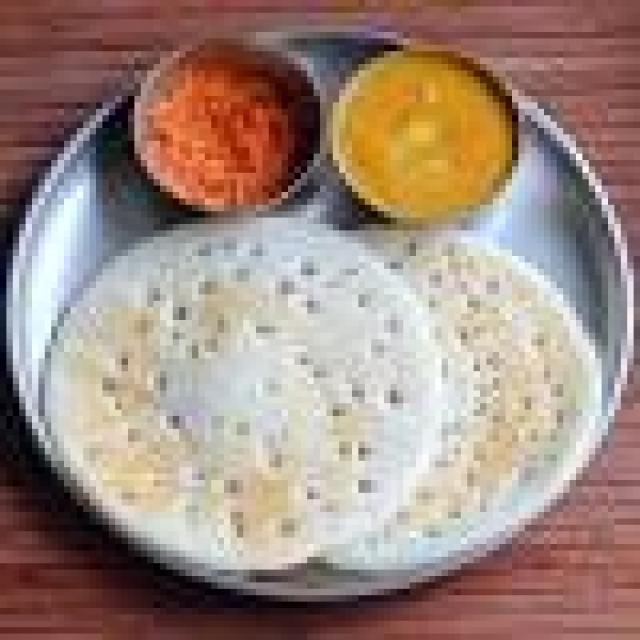Wet Waste: (58, 211, 448, 570), (230, 205, 614, 557)
